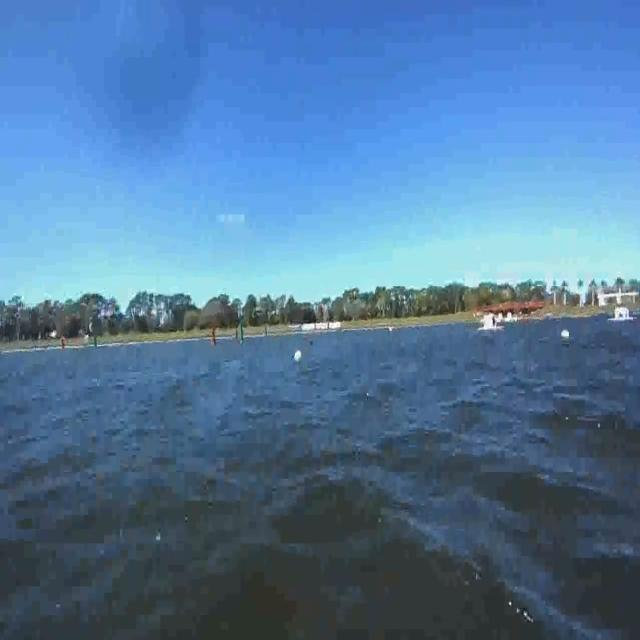blue-buoy: (308, 341, 312, 347)
green-column-buoy: (239, 324, 246, 346)
red-column-buoy: (210, 323, 218, 348)
yellow-buoy: (295, 351, 300, 360)
